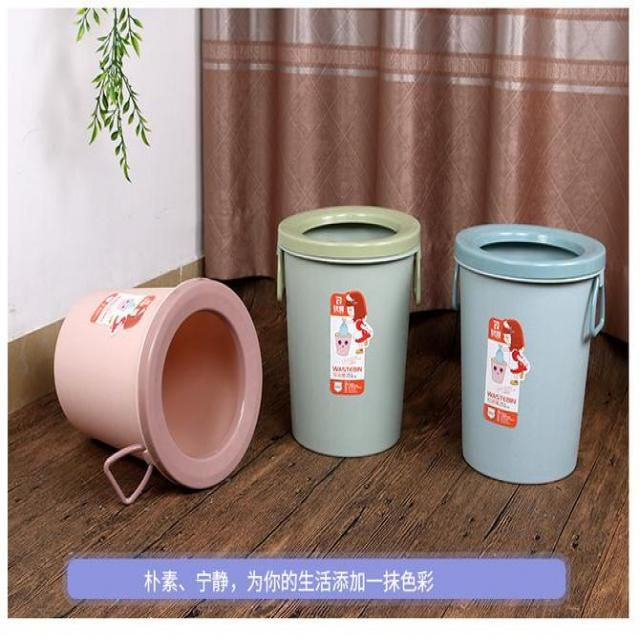Dustbin: (49, 271, 265, 509), (448, 220, 608, 489), (273, 201, 426, 460)
